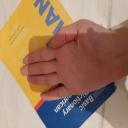OpenPalm: (20, 18, 118, 102)
